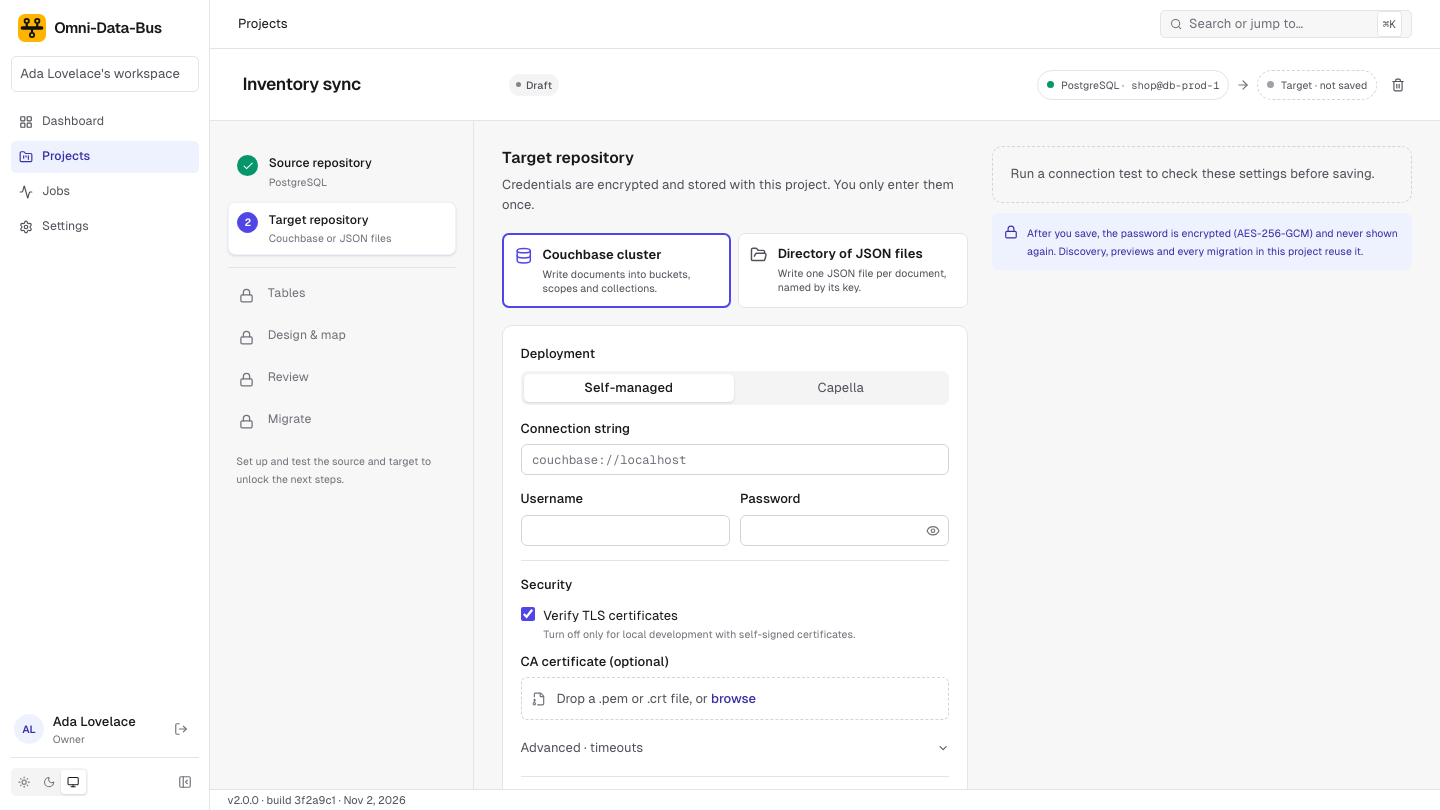
Test: FolderPicker in the all-in-one image › OC-080 AC2: the shared folder is labeled with its place on the computer
The width and height of the screenshot is (1440, 810).
Click the radio button labelled "Directory of JSON files" at (853, 270), box [738,233,968,308]
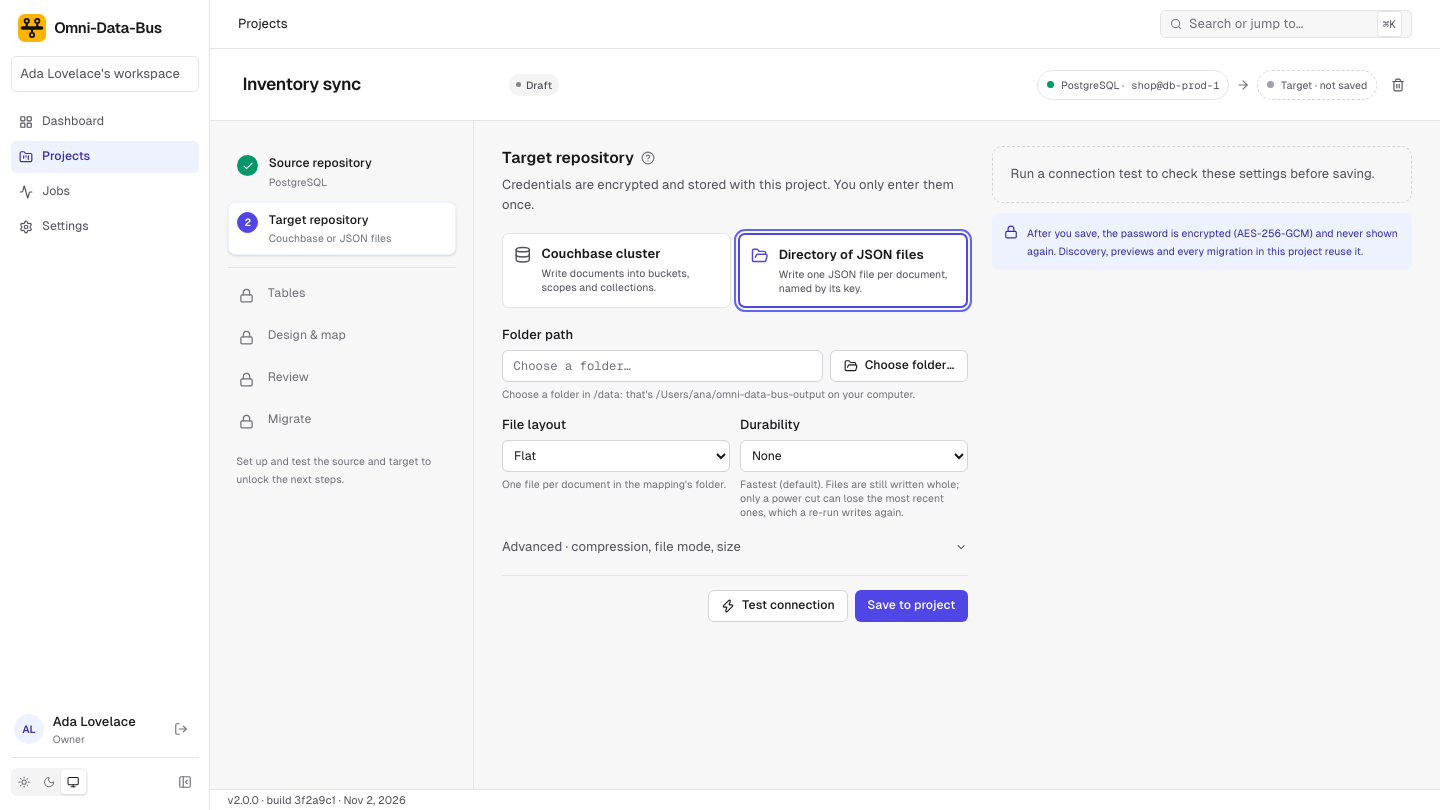
Check: the text "Choose a folder in /data: that's /Users/ana/omni-data-bus-output on your computer." is shown, box [502,388,915,400]
Click the button "Choose folder…" at (899, 366), box [830,350,968,382]
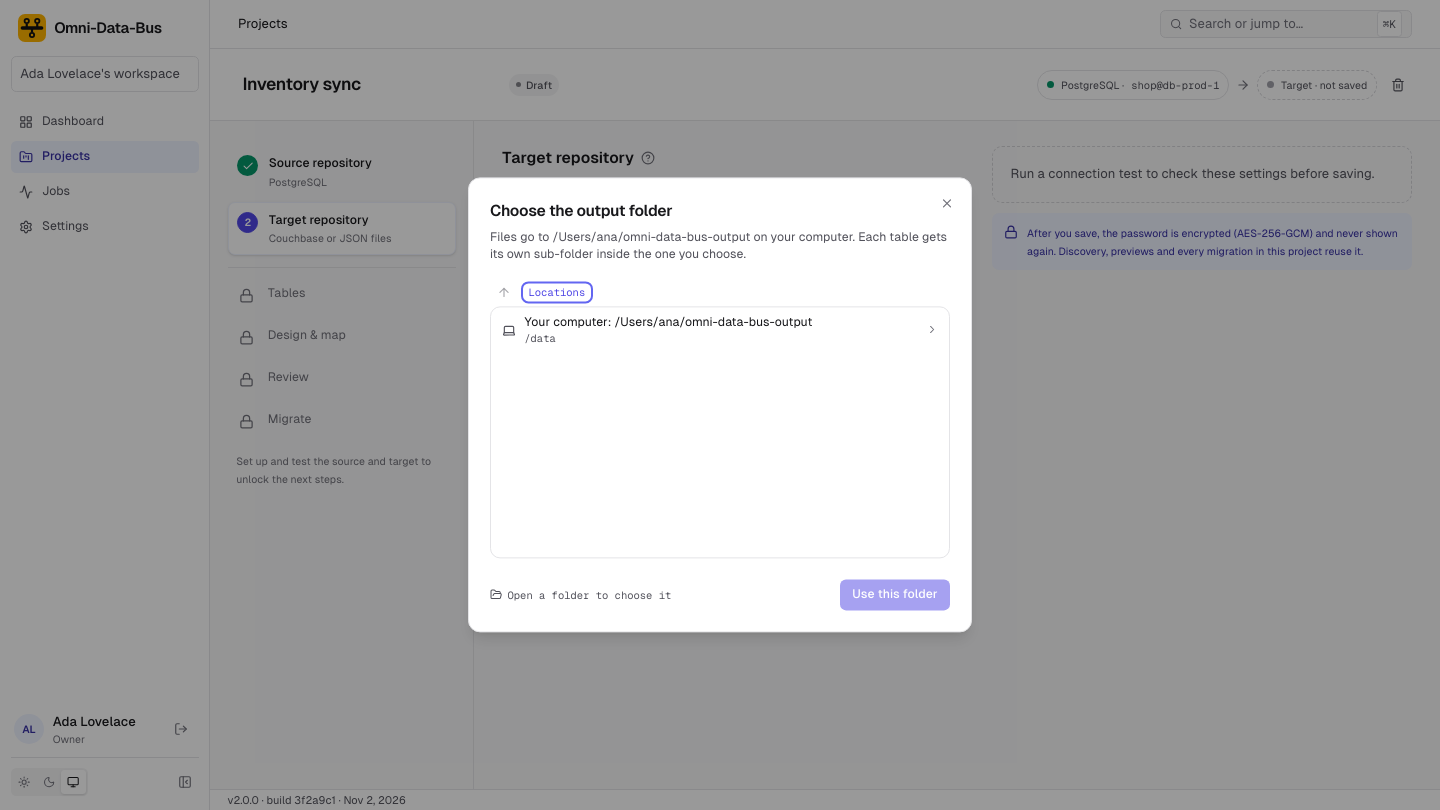
Check: the dialog "Choose the output folder" shows "Files go to /Users/ana/omni-data-bus-output on your computer.", box [490,230,947,262]
Click the button "Your computer: /Users/ana/omni-data-bus-output /data" at (720, 330), box [491,307,949,353]
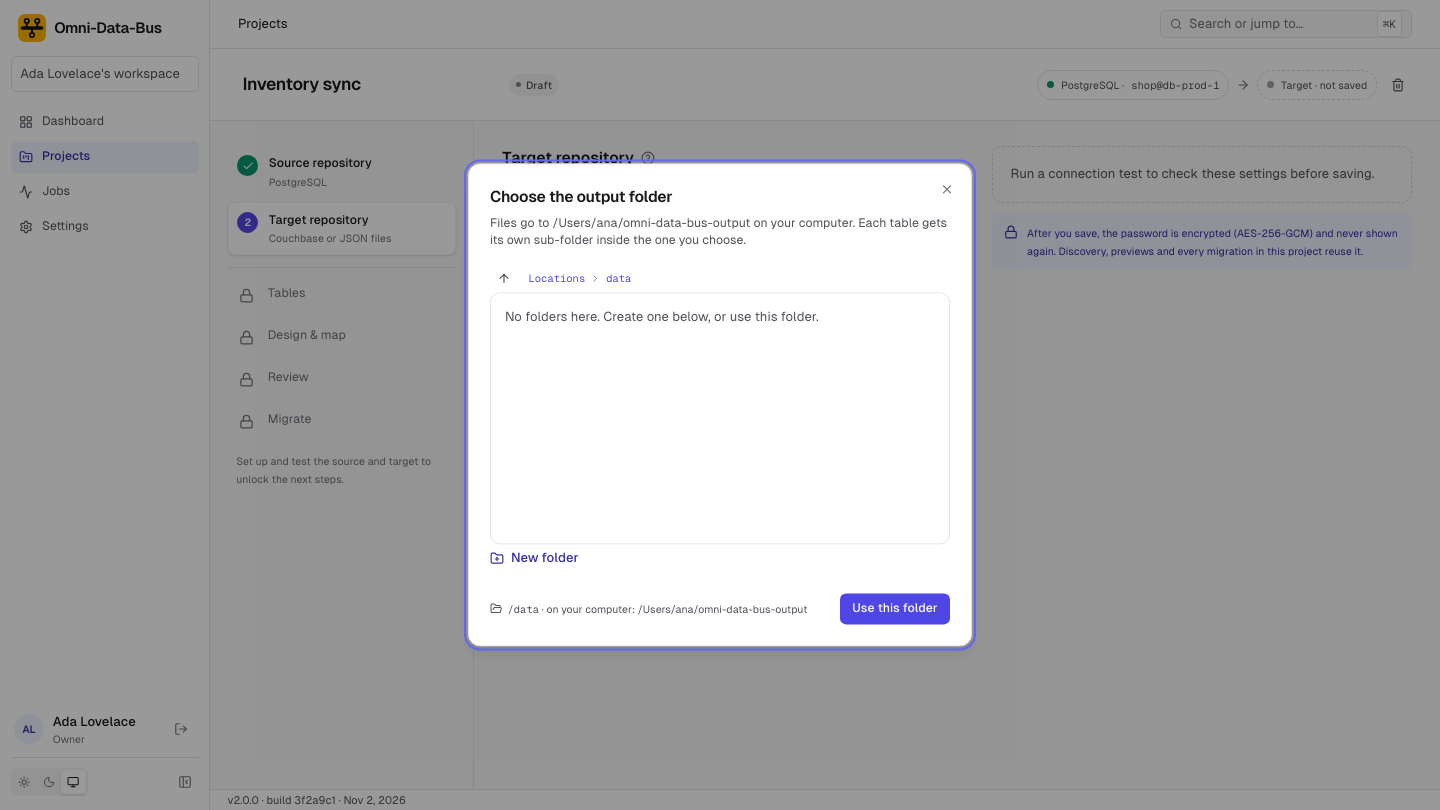
Check: the text "· on your computer: /Users/ana/omni-data-bus-output" is shown, box [539,603,807,615]
Click the button "Use this folder" at (895, 609), box [840,593,950,625]
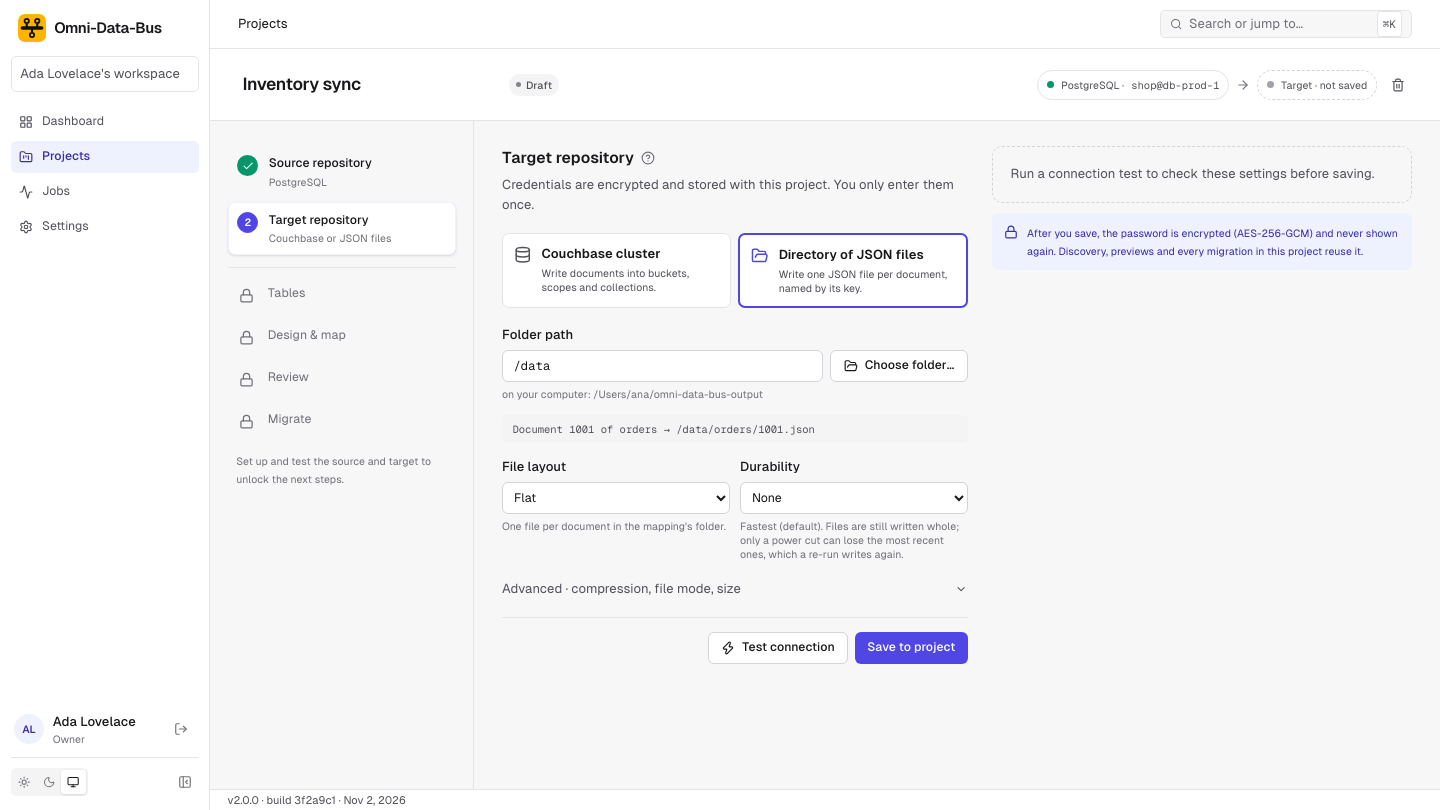
Check: the field labelled "Folder path" holds "/data", box [502,350,823,382]
Check: the text "on your computer: /Users/ana/omni-data-bus-output" is shown, box [502,388,763,400]
